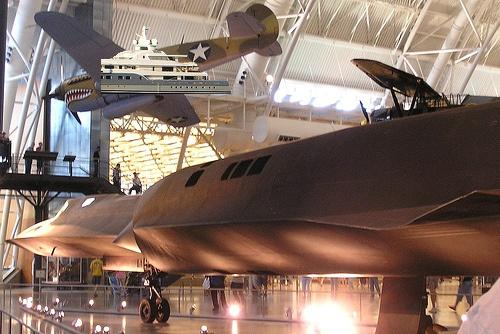tampered: (102, 27, 231, 94)
